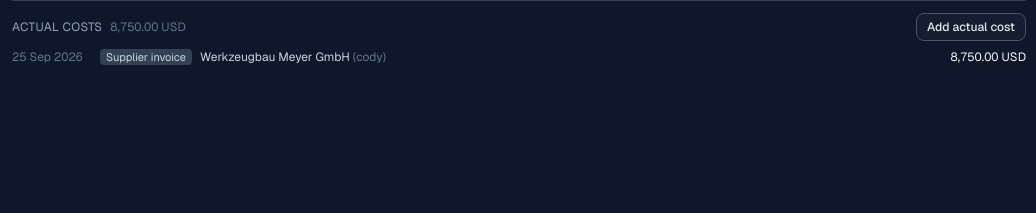
Test: Actual costs in the change currency (P2-2) › states the form and the list in the costing currency, not EUR
Expected: the text with test id "actual-cost-total" shows "USD", [110,19,186,35]
Expected: the list item with test id "actual-cost-3" shows "8,750.00 USD", [950,49,1026,65]
Click the button with test id "actual-cost-open" at {"x": 971, "y": 27}, box [916,13,1026,41]
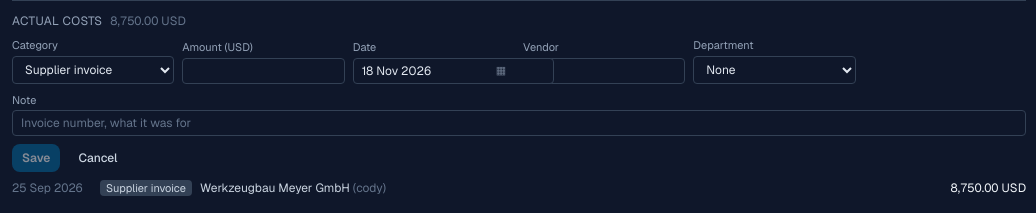
Now the form with test id "actual-cost-form" shows "Amount (USD)"
